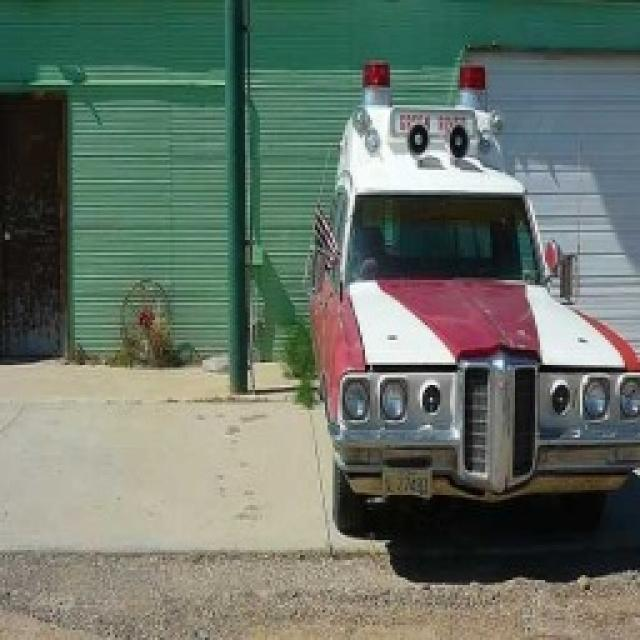ambulance: (312, 62, 638, 528)
